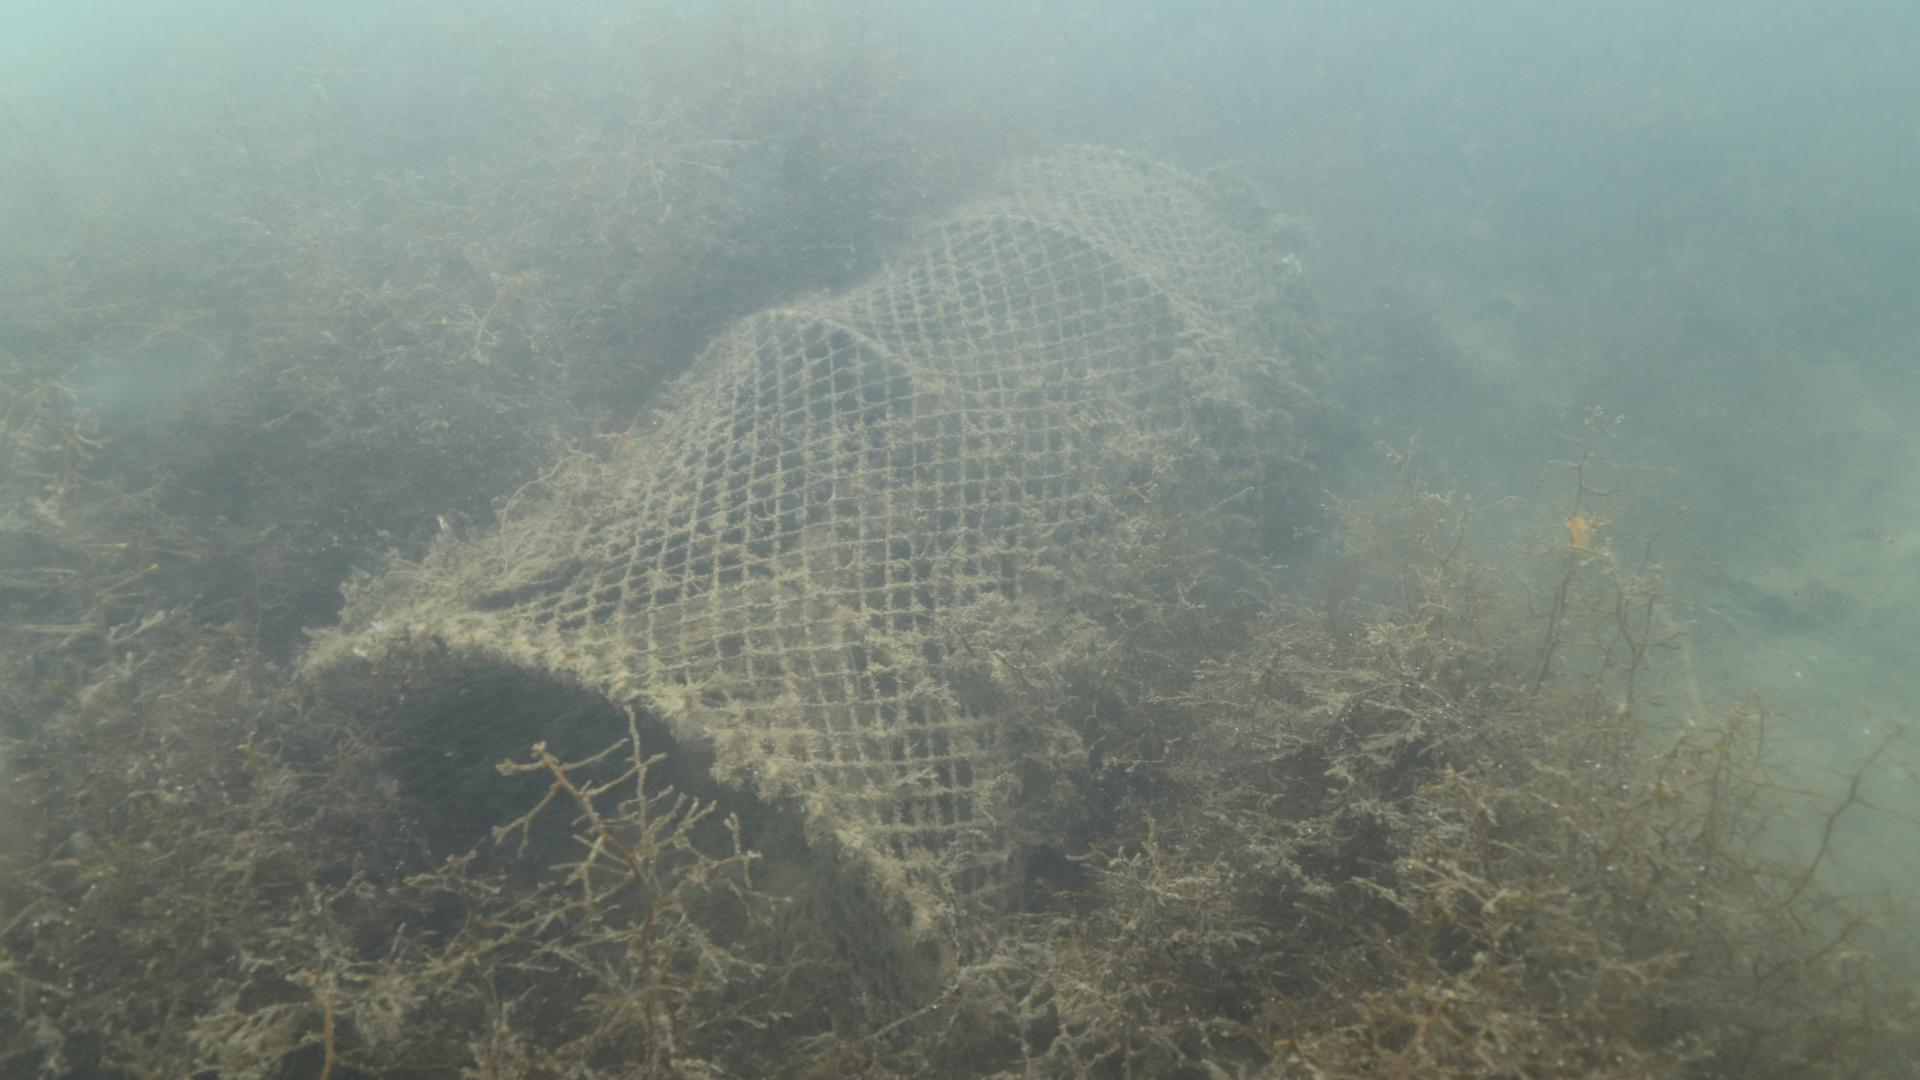spring fish trap: (293, 142, 1331, 997)
